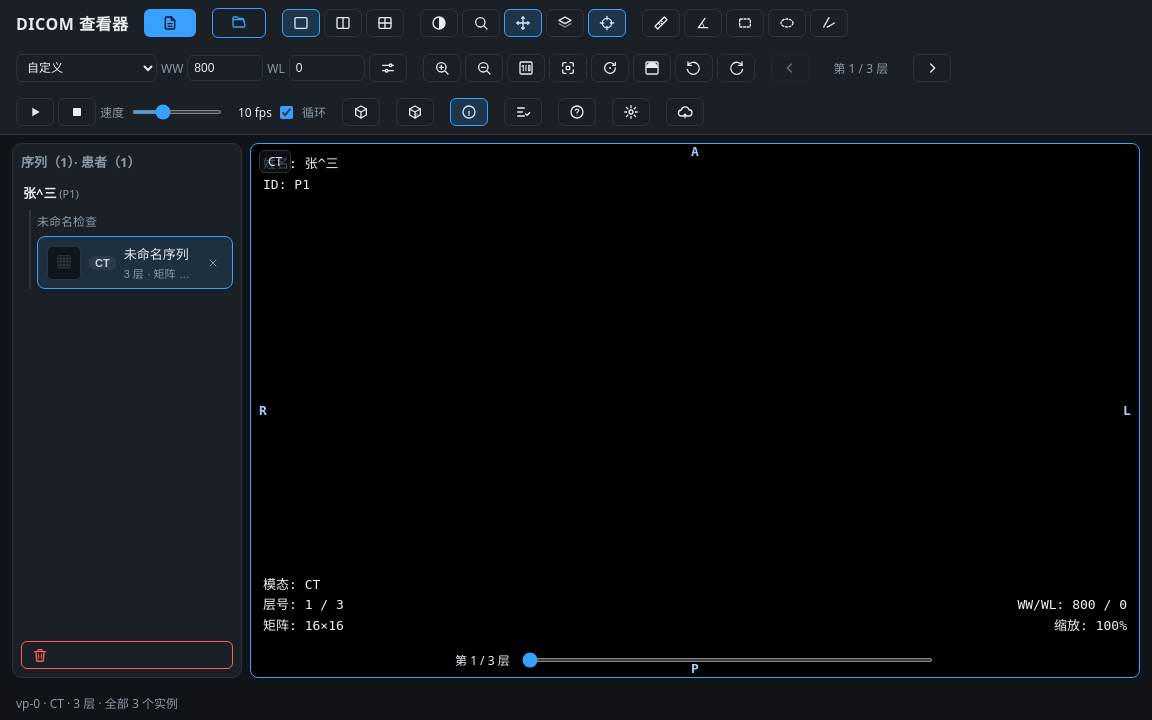
Scenario: App × 3D/MPR 入口静默失败修复（M11 任务 2） › 入口决策异常时以 toast 明确报错而非静默
This screenshot has width=1152, height=720.
Click the button named "3D 体绘制（vtk.js 光线投射）" at coordinates (415, 112), box [396,98,434,126]
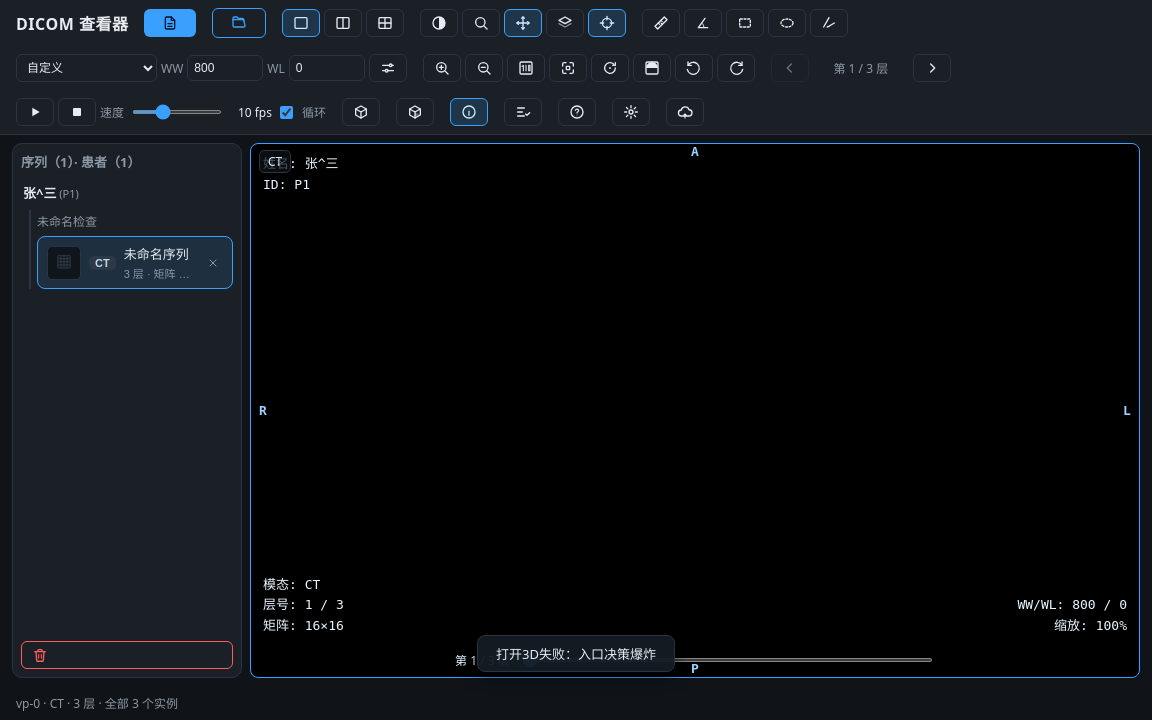
Check: the message shows "打开3D失败", box [496,645,656,663]
Click the button named "MPR 多平面重建（单轴向 ⇄ 三平面）" at coordinates (361, 112), box [342,98,380,126]
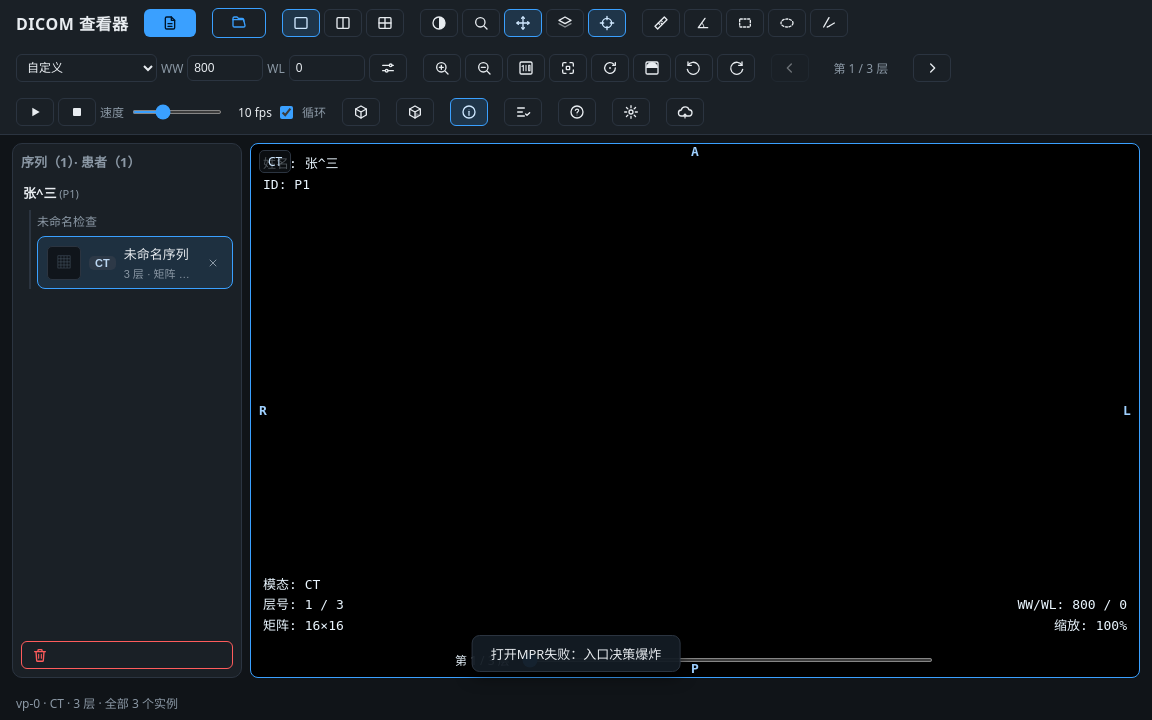
Check: the message shows "打开MPR失败", box [491,645,661,663]
